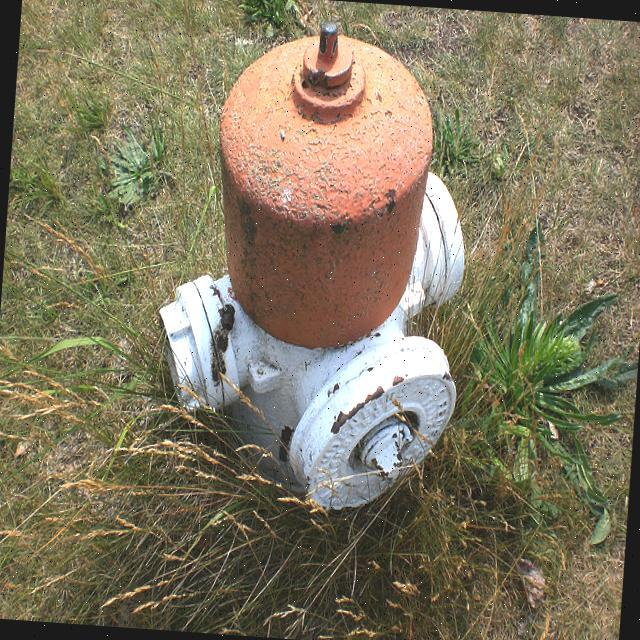fire_hydrant: (144, 15, 482, 519)
